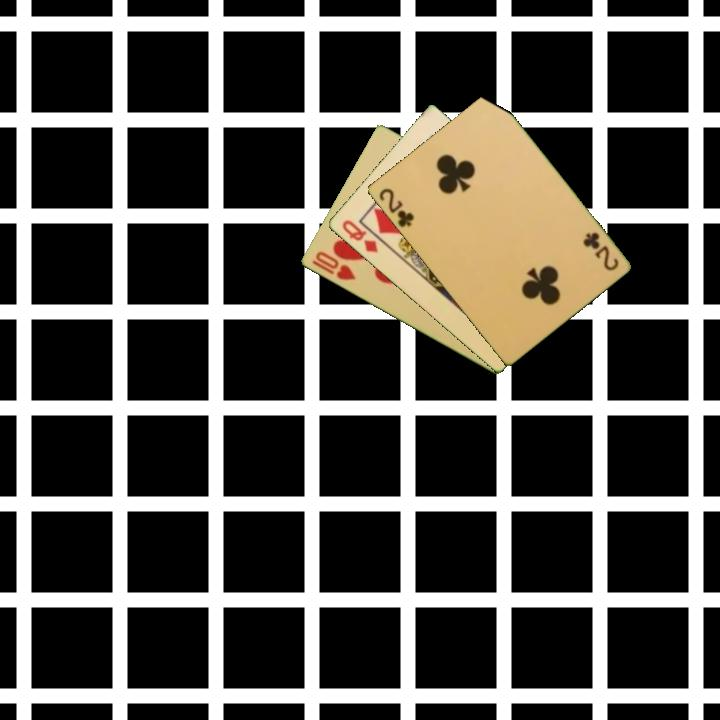10h: (311, 248, 359, 283)
2c: (375, 184, 417, 230), (579, 229, 621, 274)
Qd: (338, 216, 381, 256)
